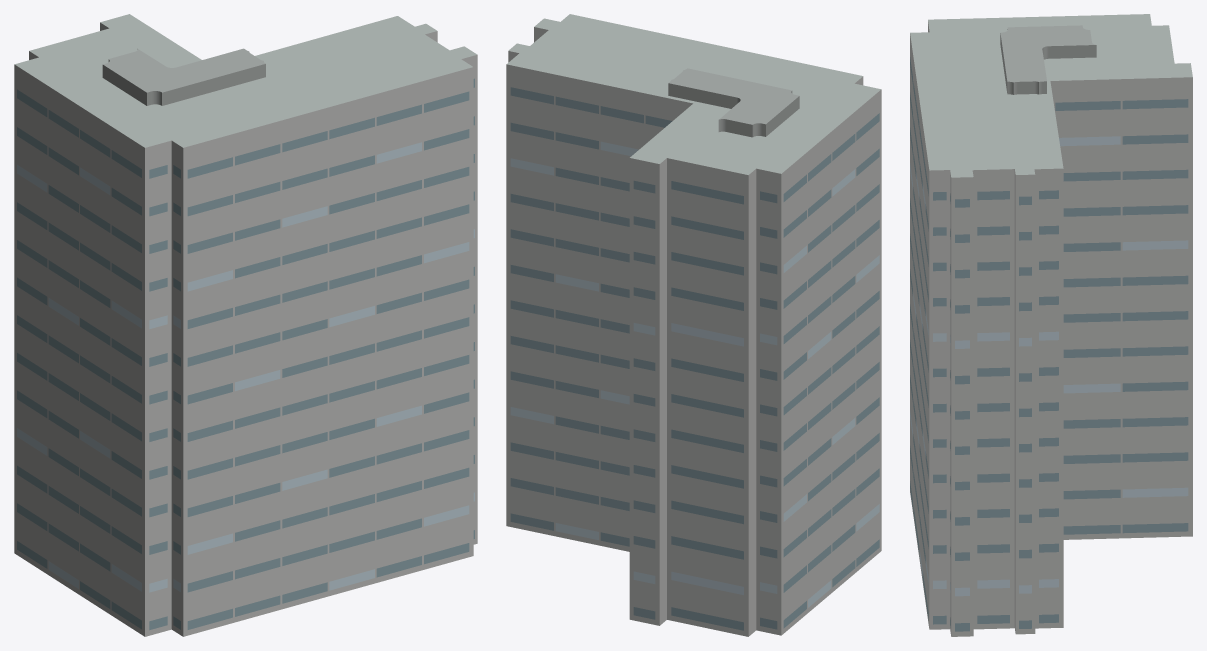
Rendered from apt-a10023352.glb.
3 views of the same model, side by side, from view 1: azimuth 30°, elevation 25°; view 2: azimuth 150°, elevation 25°; view 3: azimuth 270°, elevation 25° (orthographic). The views are drawn at different scales.
Visible parts, largest first — view 1: apt-a10023352; view 2: apt-a10023352; view 3: apt-a10023352.
Part boxes in pixels (x1=…): apt-a10023352: x1=14, y1=14, x2=477, y2=636; apt-a10023352: x1=506, y1=14, x2=881, y2=636; apt-a10023352: x1=910, y1=14, x2=1192, y2=636.
Size of the model in its own units: 66.98 by 90 by 48.9.
